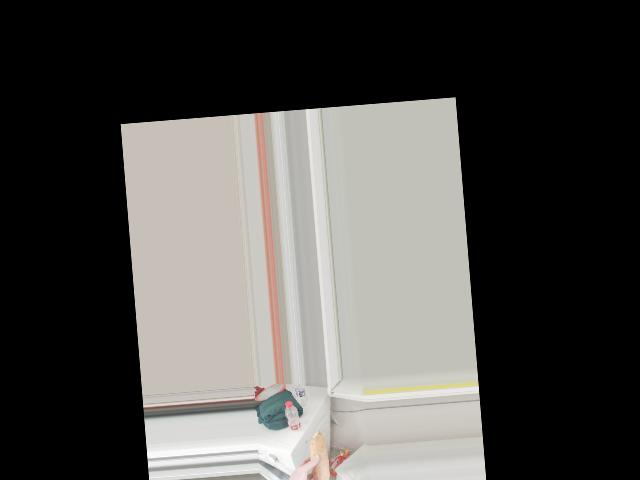sweet_potato: (305, 435, 332, 480)
